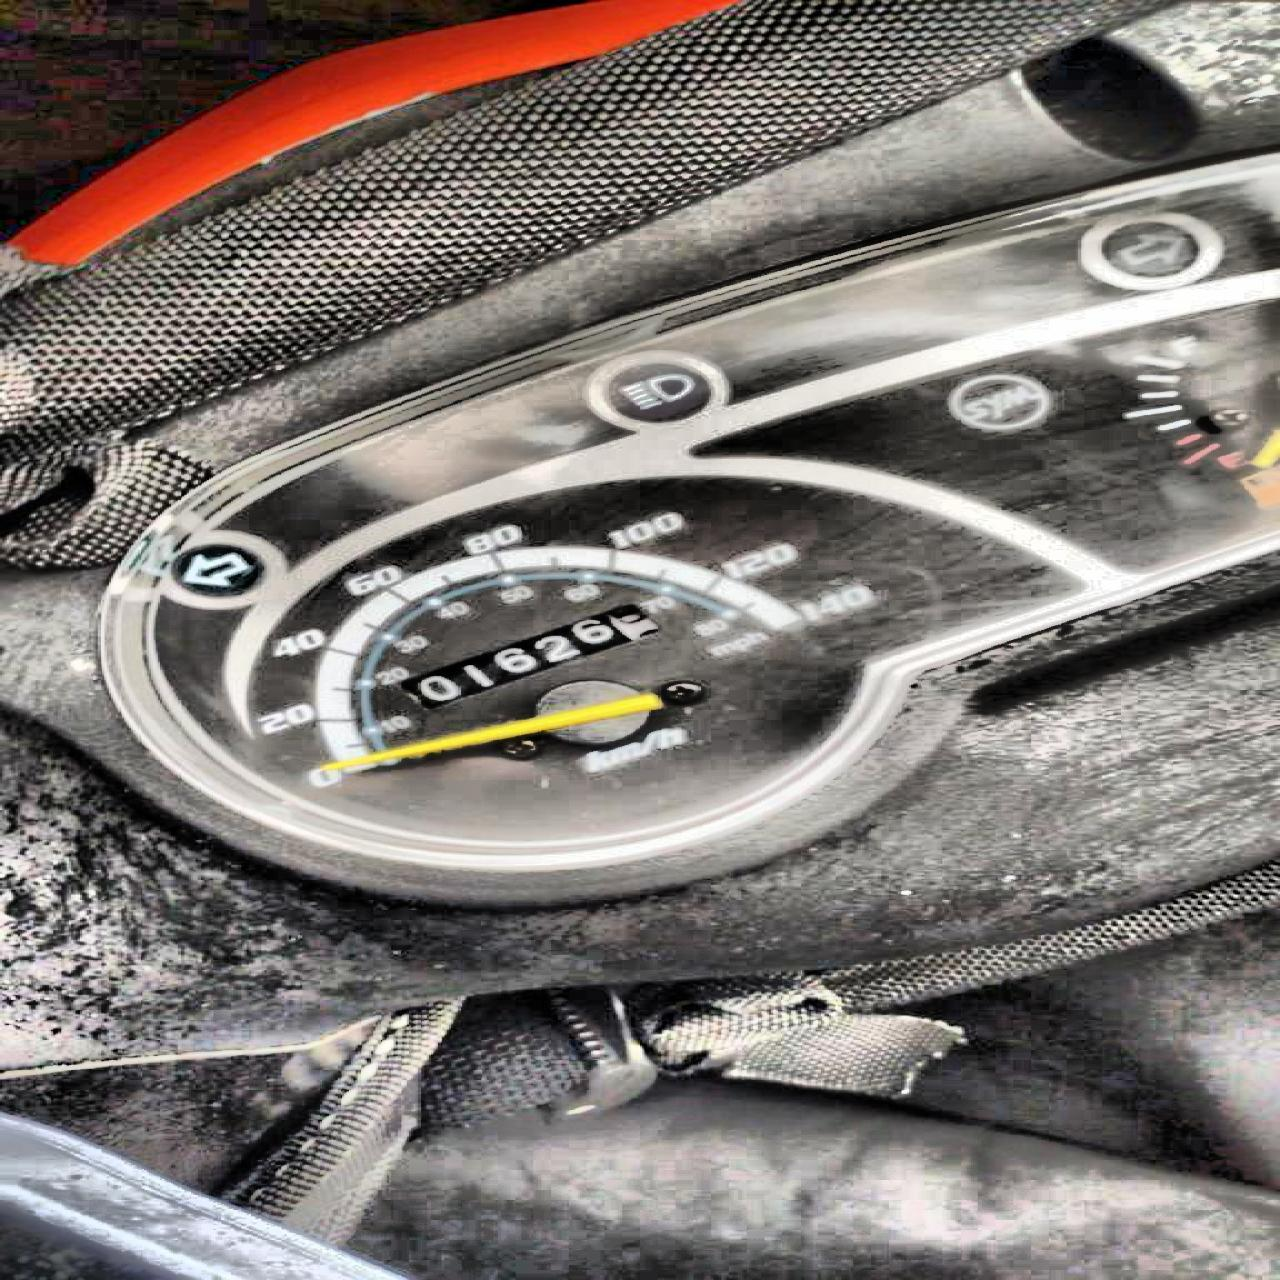0: (416, 676, 462, 699), (447, 600, 471, 614), (389, 666, 407, 679), (407, 635, 427, 646)
1: (456, 661, 496, 685)
2: (531, 635, 580, 660)
3: (393, 639, 411, 652)
4: (436, 606, 454, 619)
6: (486, 645, 536, 673), (567, 619, 613, 642)
7: (638, 600, 655, 611)
8: (605, 604, 647, 625)
odometer: (393, 600, 670, 709)
